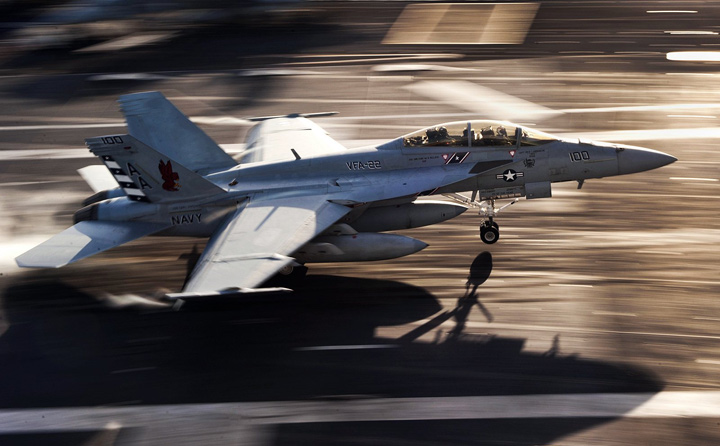airplane: (4, 92, 680, 310)
